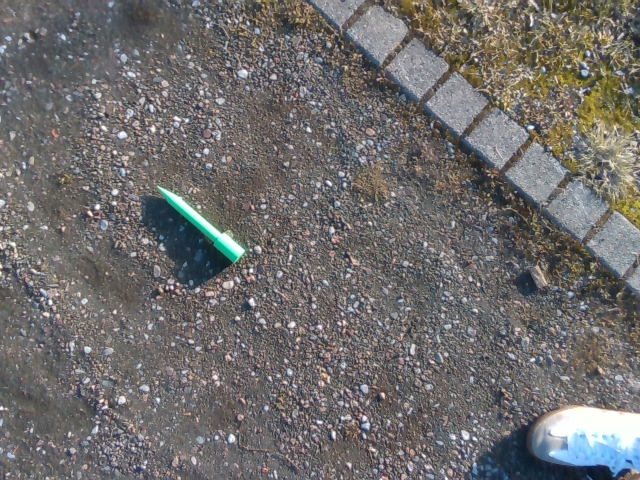Probe: (150, 181, 248, 265)
